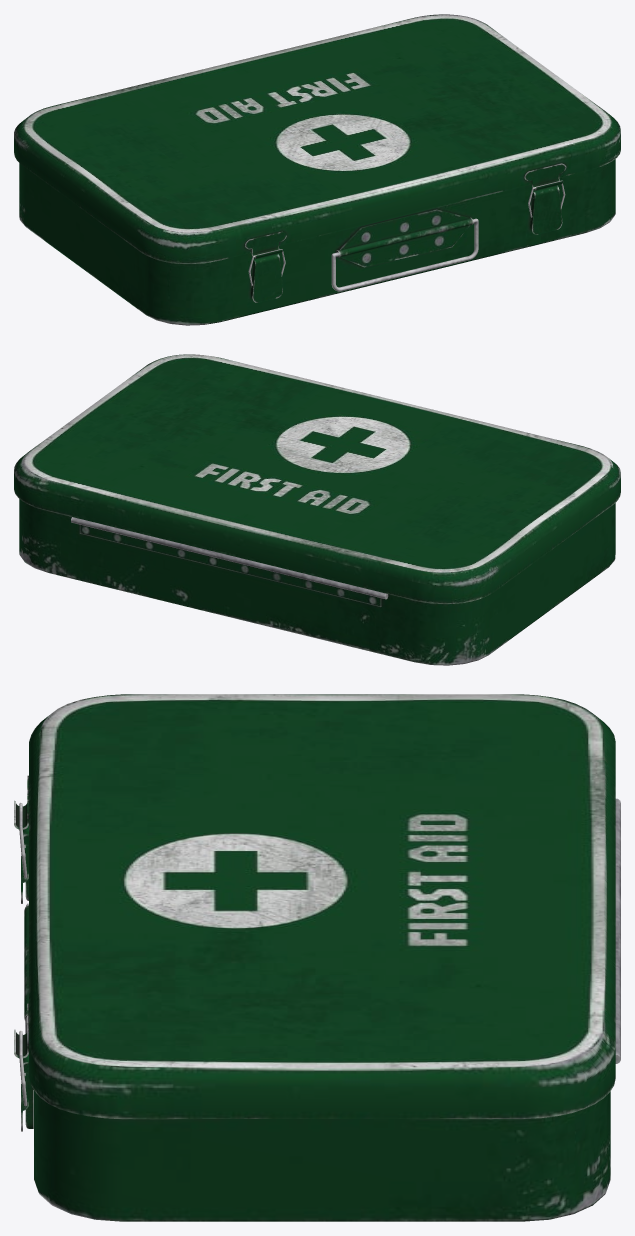
Rendered from medical_box.gltf.
3 renders of one model, top to bottom at view 1: azimuth 30°, elevation 25°; view 2: azimuth 150°, elevation 25°; view 3: azimuth 270°, elevation 25°, orthographic. The views are drawn at different scales.
Visible parts, largest first — view 1: medical_box_lid, medical_box, medical_box_latch, medical_box_handle; view 2: medical_box_lid, medical_box; view 3: medical_box_lid, medical_box.
Part boxes in pixels (<box>): medical_box_lid: <box>14,14,620,263</box>; medical_box: <box>19,159,615,325</box>; medical_box_latch: <box>251,185,562,302</box>; medical_box_handle: <box>331,218,478,291</box>; medical_box_lid: <box>14,354,620,603</box>; medical_box: <box>19,499,615,665</box>; medical_box_lid: <box>14,694,615,1118</box>; medical_box: <box>24,798,620,1221</box>.
Size of the model in its own units: 0.5255 by 0.0975 by 0.3502.
1 material, 1 textured.
